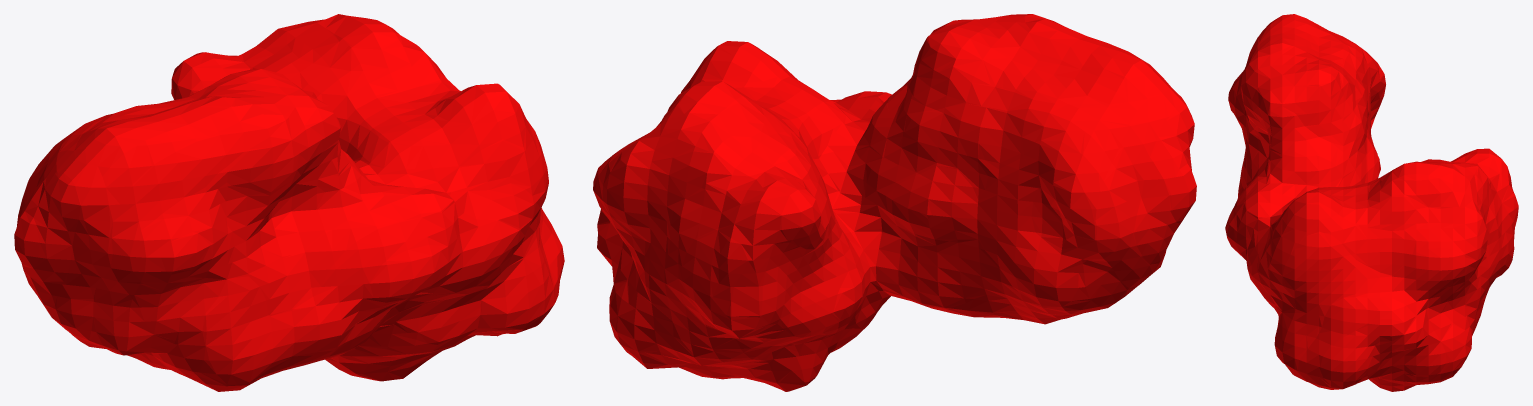
The model's file is pepD_coarse.dae.
3 views of the same model, side by side, from view 1: azimuth 30°, elevation 25°; view 2: azimuth 150°, elevation 25°; view 3: azimuth 270°, elevation 25° (orthographic). The views are drawn at different scales.
Parts seen in each view (by area): view 1: pepD; view 2: pepD; view 3: pepD.
Part boxes in pixels (left/top/right/bottom): pepD: left=14, top=14, right=564, bottom=391; pepD: left=593, top=14, right=1196, bottom=391; pepD: left=1225, top=14, right=1518, bottom=391.
Bounding box in the file's own units: 91.62 × 56.69 × 58.61.
